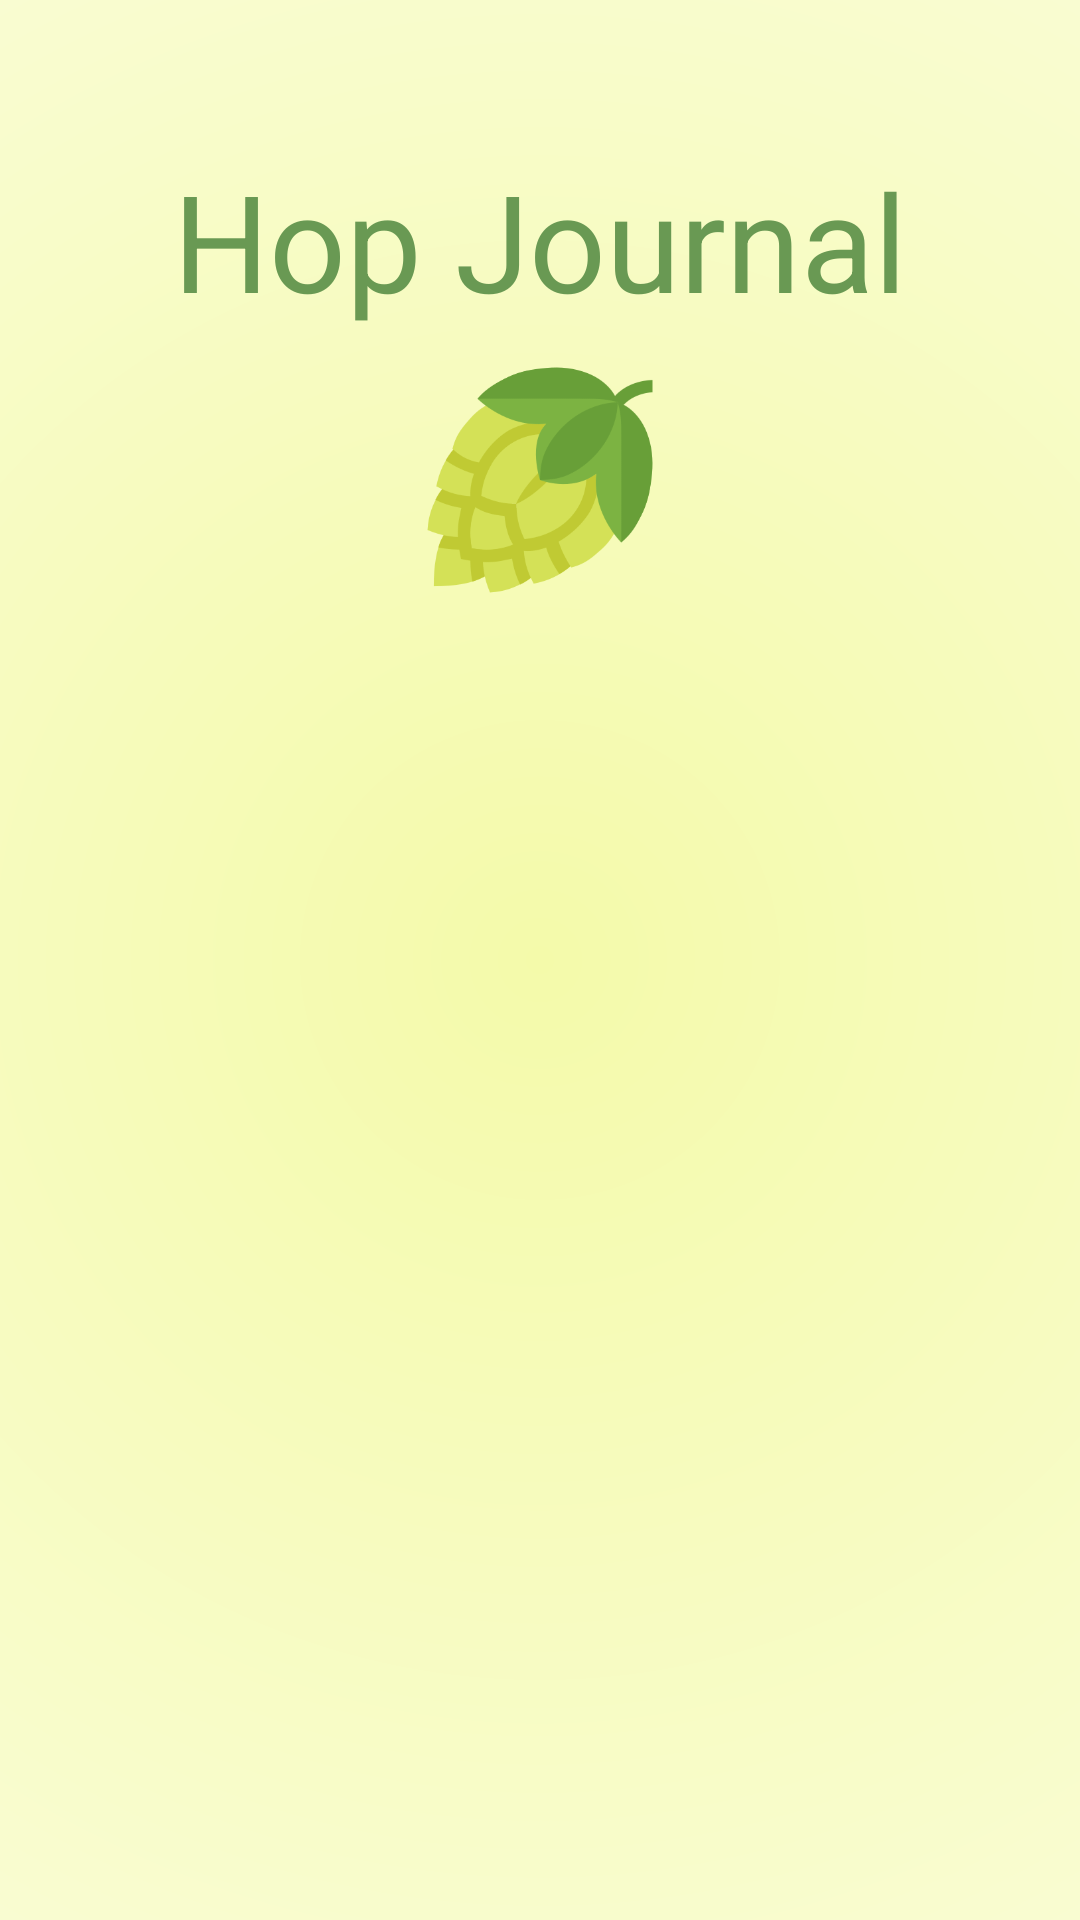

Locate icon controls on the screen. Image size 1080x1920, boxes as (x1, y1, x2, y2).
hops: (427, 367, 653, 593)
